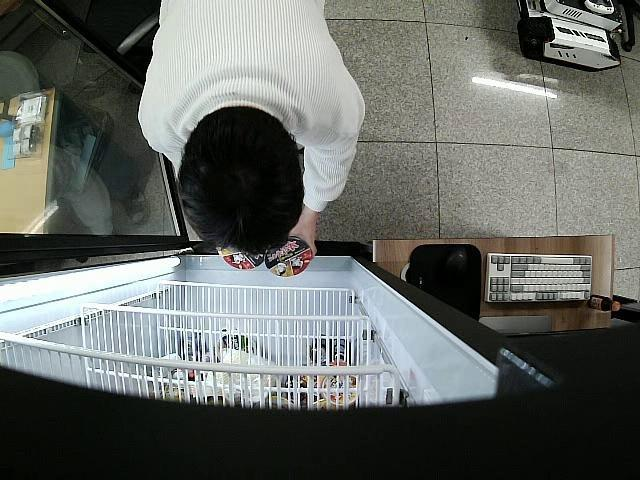07_buldak_L: (265, 236, 312, 278)
